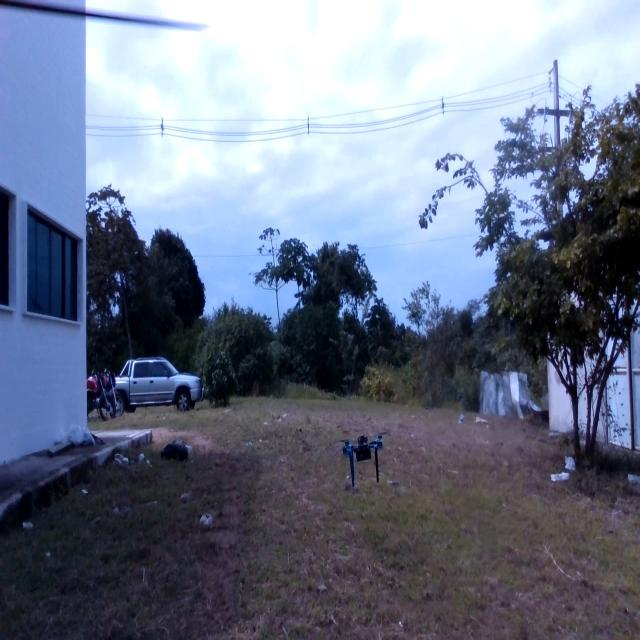-uav-: (338, 429, 386, 489)
